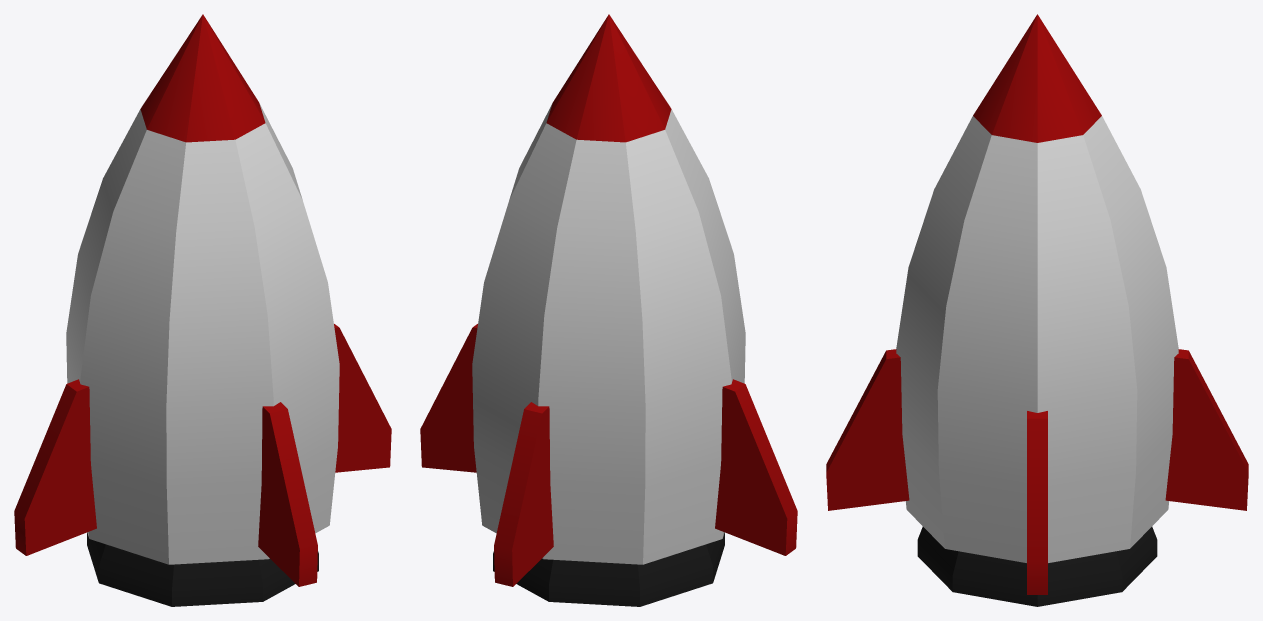
Rendered from RocketAmmo.fbx.
3 views of the same model, side by side, from view 1: azimuth 30°, elevation 25°; view 2: azimuth 150°, elevation 25°; view 3: azimuth 270°, elevation 25° (orthographic).
Parts seen in each view (by area): view 1: Mesh; view 2: Mesh; view 3: Mesh.
Part boxes in pixels (x1,y1,x2,y2): Mesh: (14, 14, 391, 606); Mesh: (420, 14, 797, 606); Mesh: (826, 14, 1248, 606).
Size of the model in its own units: 17.97 by 25.45 by 17.97.
